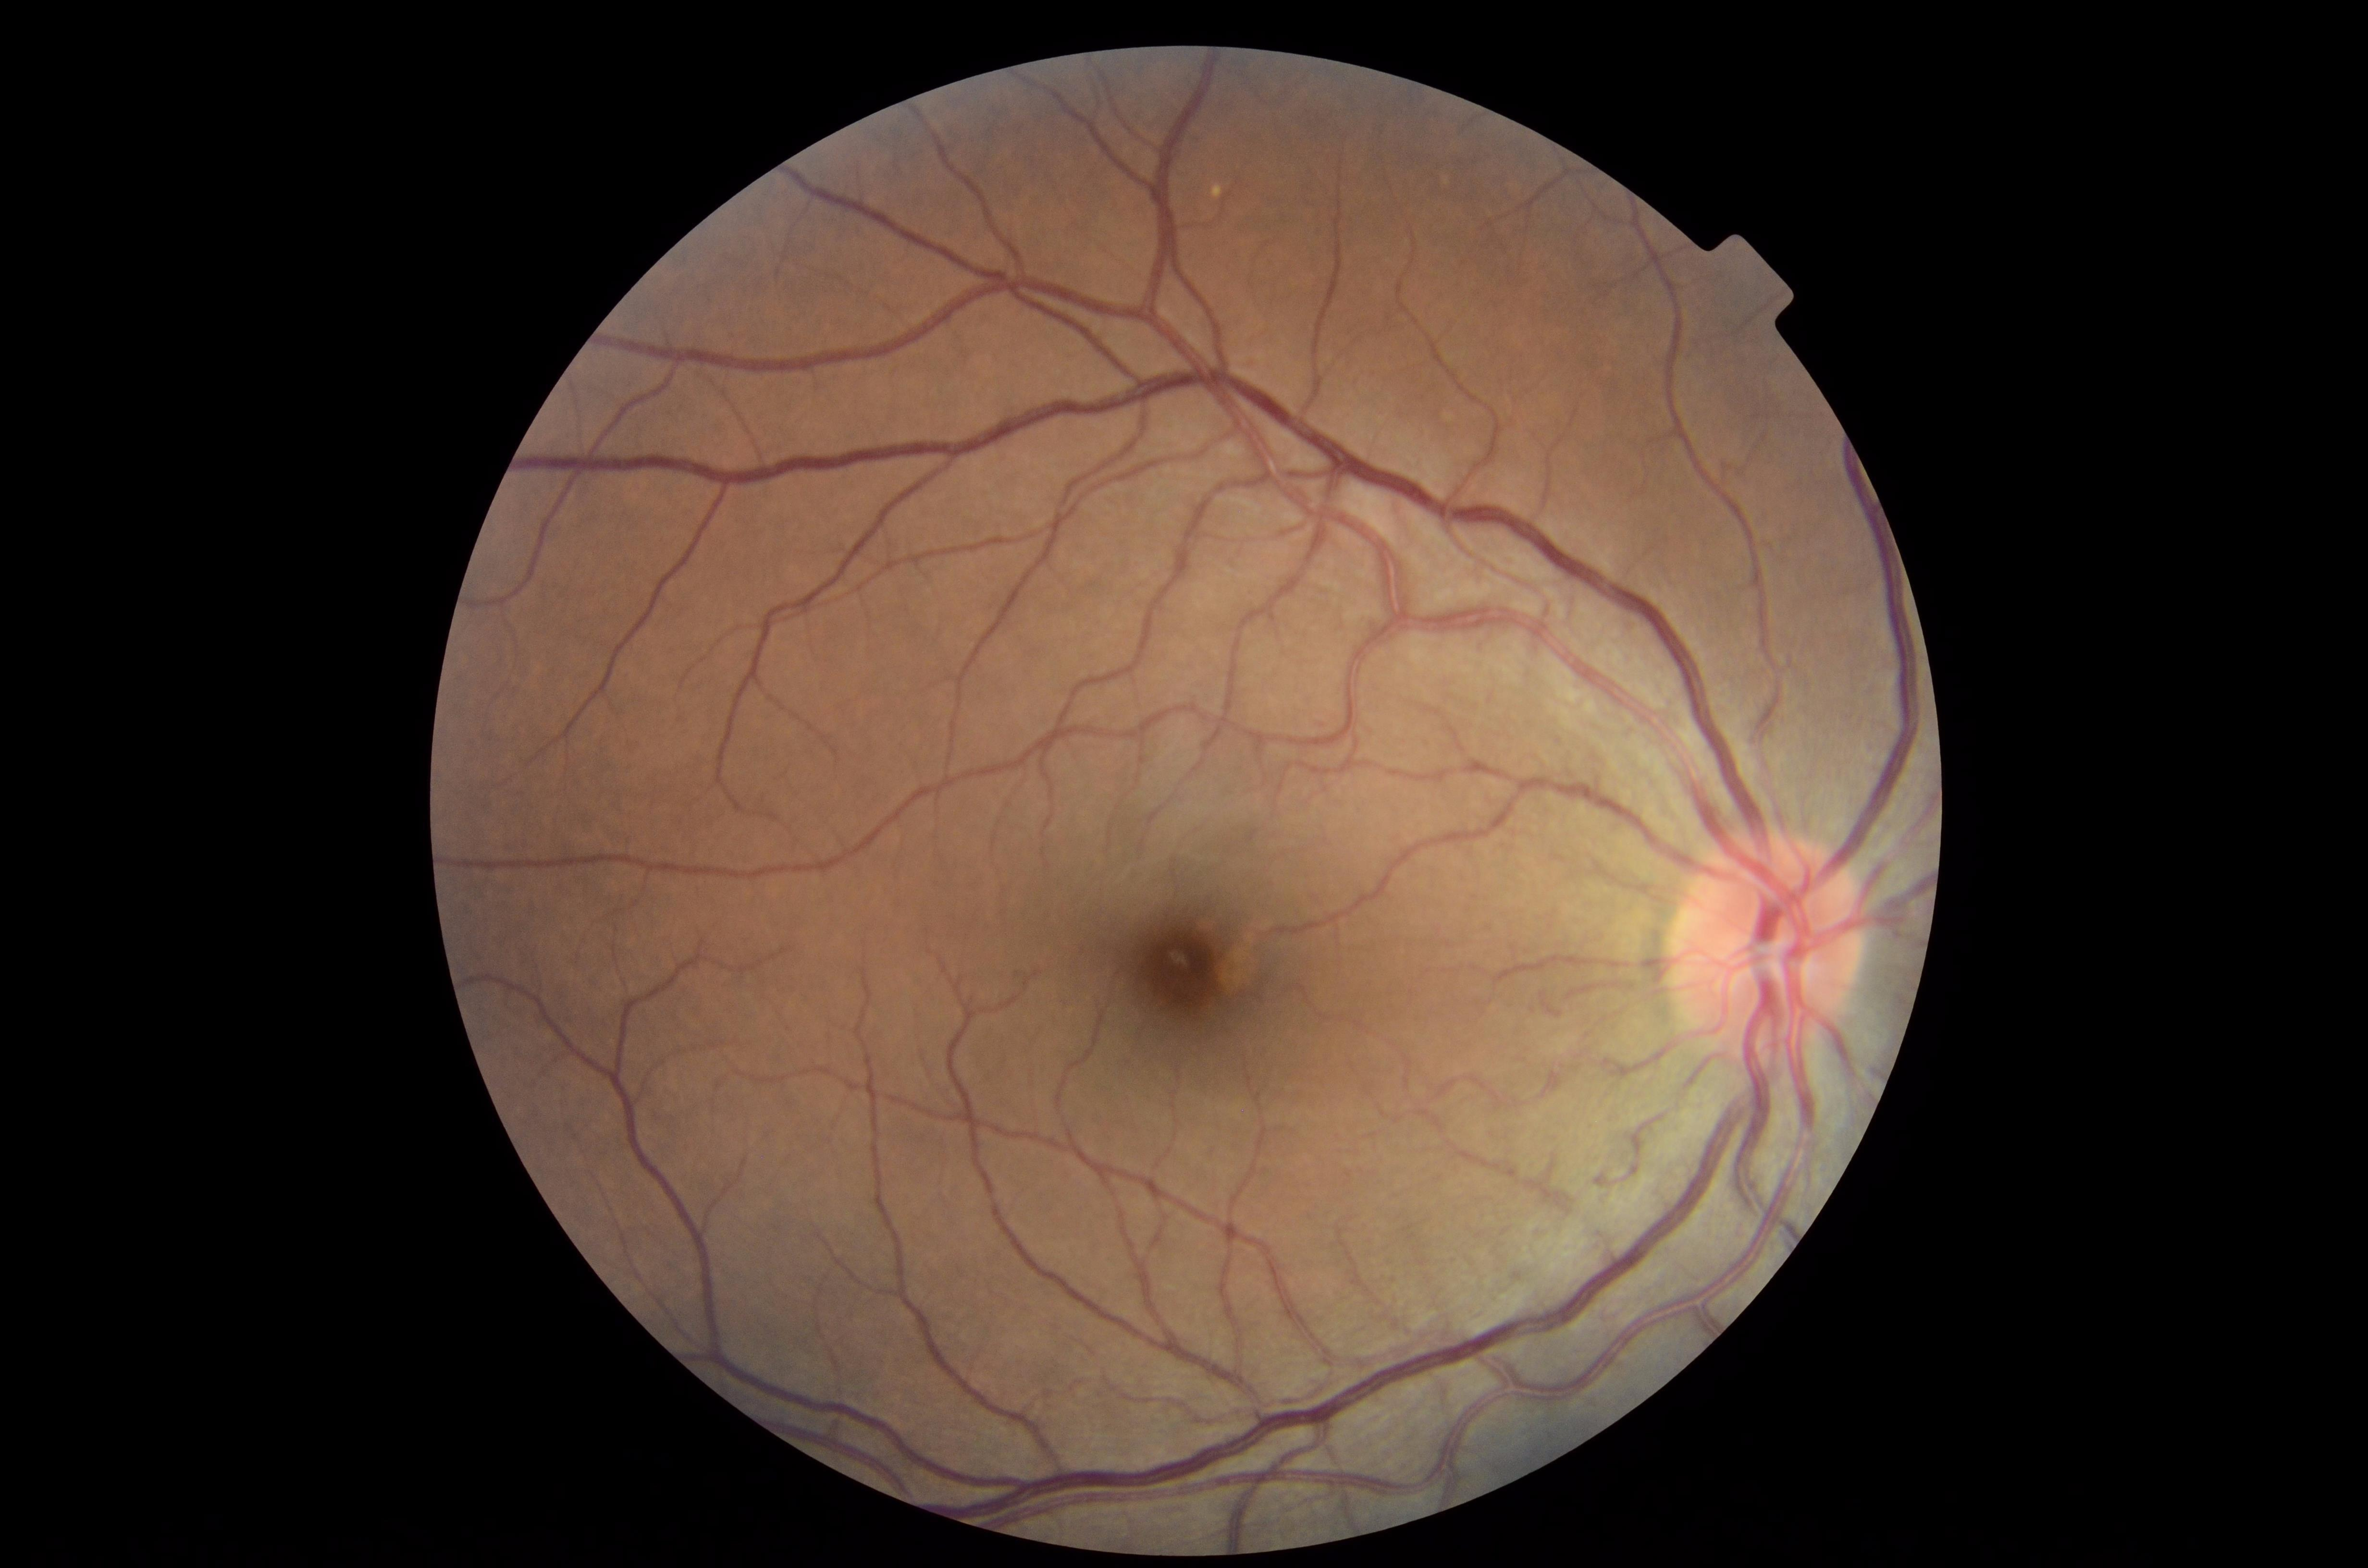Optic-nerve: (1676, 836, 1869, 1078)
macula: (1121, 911, 1258, 1040)
notch: (1701, 219, 1814, 336)
